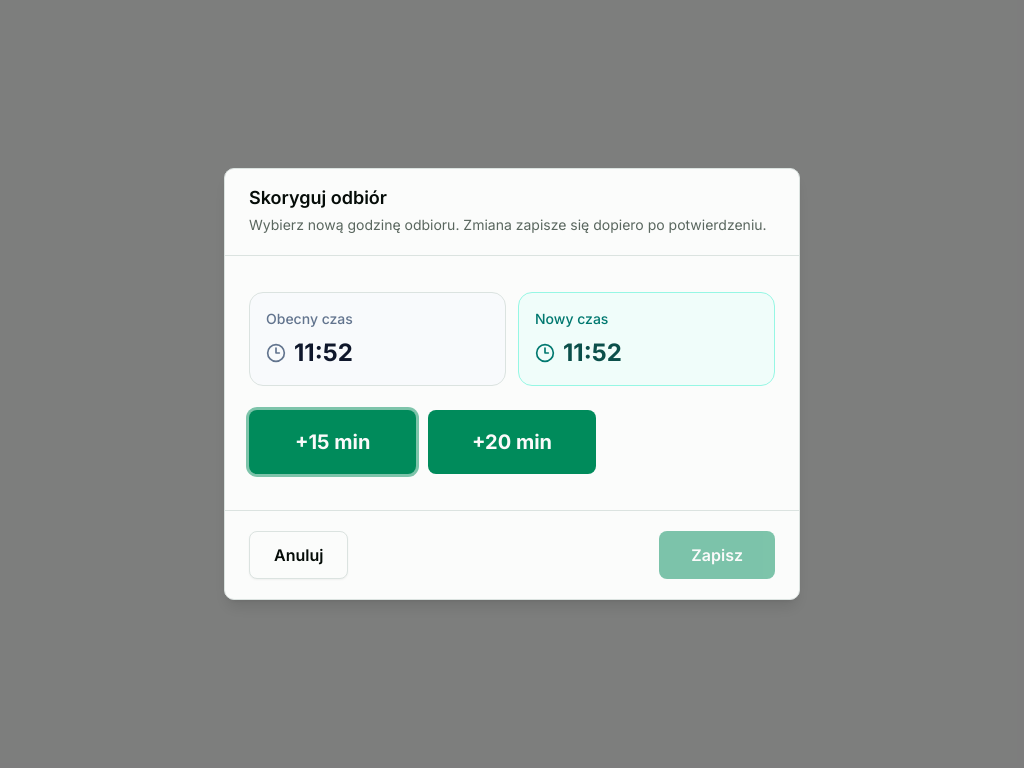
Test: PickupTimeAdjustDialog › does not re-enable negative adjustments after reaching the first safe future time
Click the button "+15 min".
click(333, 442)  # box [249, 410, 416, 474]
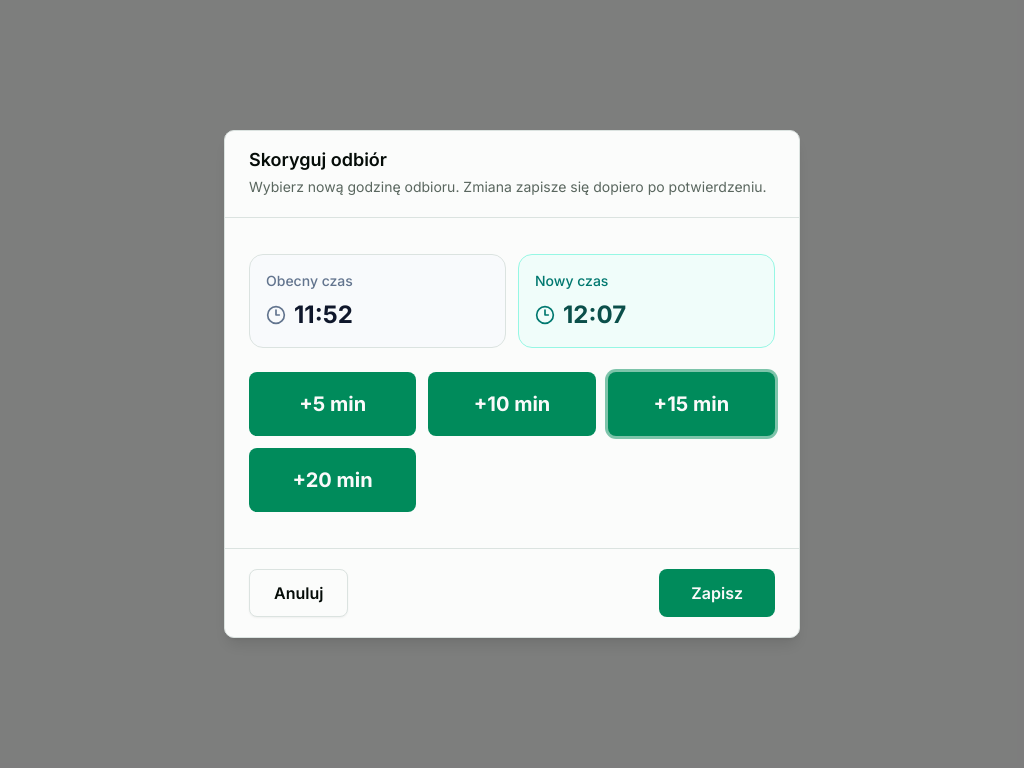
Check: the button "+5 min" is shown, box [249, 372, 416, 436]
